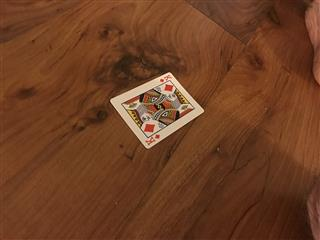KingOfDiamonds: (108, 71, 205, 150)
